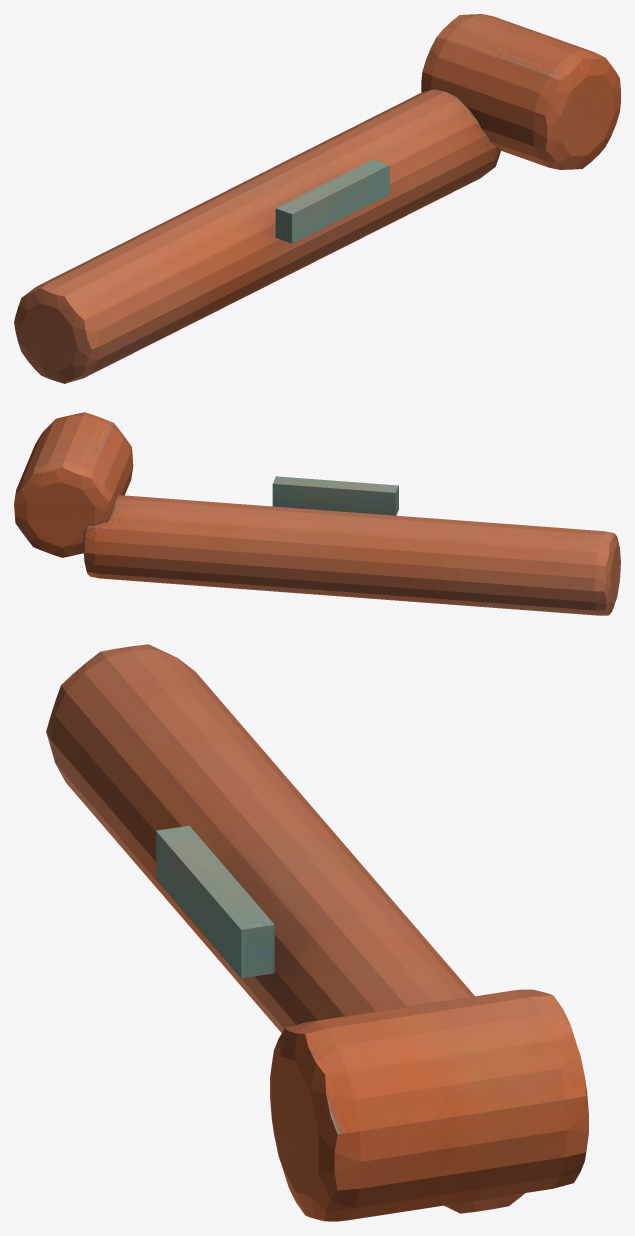
The model's file is scrap_copper_pipe.glb.
3 renders of one model, top to bottom at view 1: azimuth 30°, elevation 25°; view 2: azimuth 150°, elevation 25°; view 3: azimuth 270°, elevation 25°, orthographic. The views are drawn at different scales.
Visible parts, largest first — view 1: CopperPipe_Mesh; view 2: CopperPipe_Mesh; view 3: CopperPipe_Mesh.
Boxes of the visible parts, x1=… form: CopperPipe_Mesh: x1=14, y1=14, x2=620, y2=383; CopperPipe_Mesh: x1=14, y1=412, x2=620, y2=615; CopperPipe_Mesh: x1=46, y1=644, x2=588, y2=1221.
Bounding box in the file's own units: 0.6891 × 0.145 × 0.3042.
Materials: 1 (1 with a texture image).
